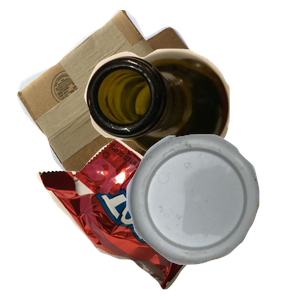cardboard: (14, 10, 222, 190)
glass: (82, 46, 300, 199)
plastic: (124, 132, 300, 300)
trash: (34, 136, 253, 300)
